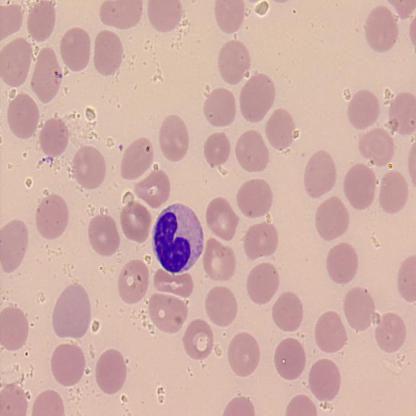Band Neutrophil: (149, 200, 206, 278)
